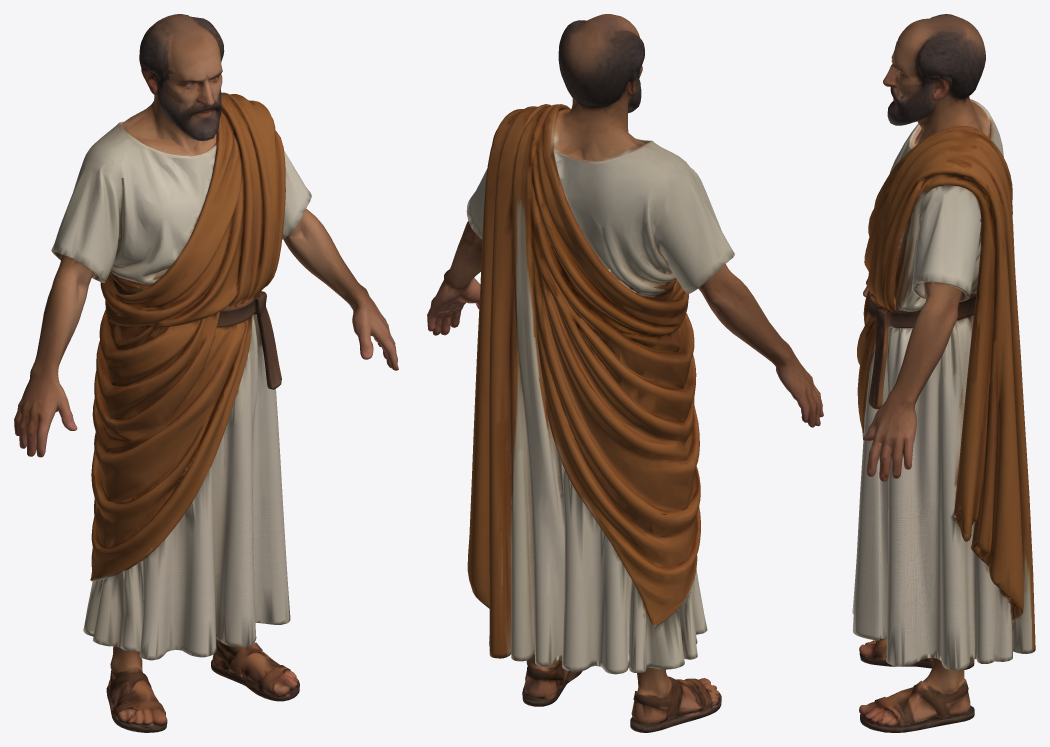
File: Apostle_Paul_VR_2K.glb
3 views of the same model, side by side, from view 1: azimuth 30°, elevation 25°; view 2: azimuth 150°, elevation 25°; view 3: azimuth 270°, elevation 25° (orthographic). The views are drawn at different scales.
Visible parts, largest first — view 1: Apostle_Paul; view 2: Apostle_Paul; view 3: Apostle_Paul.
Boxes of the visible parts, x1,y1,x2,y2 form: Apostle_Paul: (14,14,398,732); Apostle_Paul: (427,14,823,732); Apostle_Paul: (852,14,1035,732).
Bounding box in the file's own units: 0.6654 × 1.14 × 0.2827.
1 material, 1 textured.
